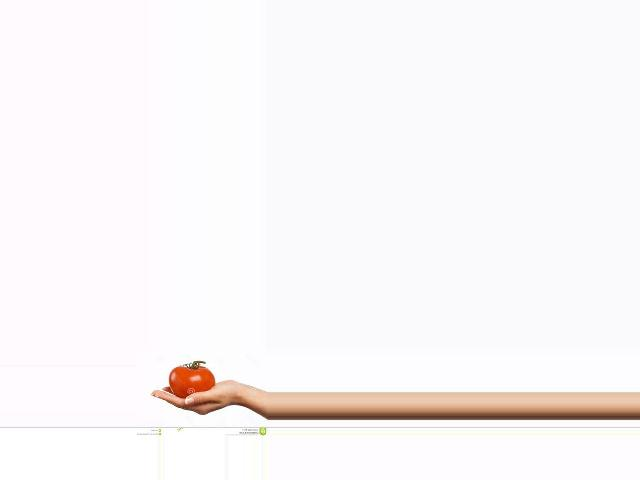tomato: (168, 366, 214, 398)
